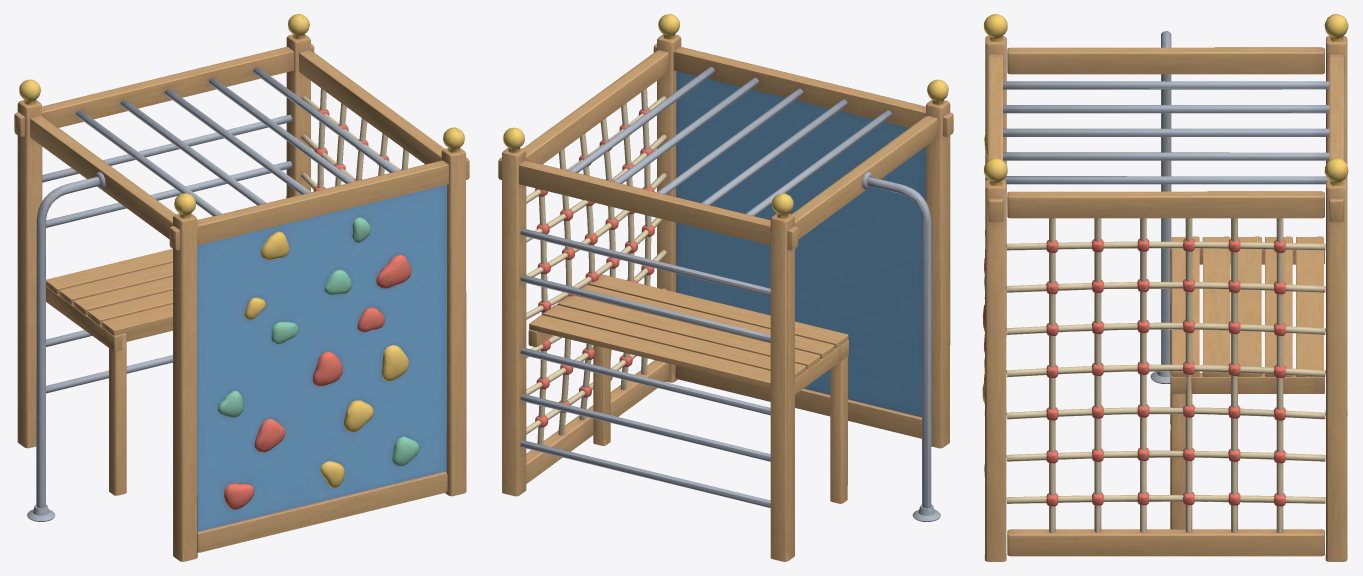
File: climbing_frame.glb
3 renders of one model, left to right at view 1: azimuth 30°, elevation 25°; view 2: azimuth 150°, elevation 25°; view 3: azimuth 270°, elevation 25°, orthographic. The views are drawn at different scales.
Parts seen in each view (by area): view 1: climbing-frame_body; view 2: climbing-frame_body; view 3: climbing-frame_body.
Boxes of the visible parts, bbox=[...] form: climbing-frame_body: bbox=[14, 14, 469, 561]; climbing-frame_body: bbox=[498, 14, 953, 561]; climbing-frame_body: bbox=[982, 14, 1348, 561].
Bounding box in the file's own units: 2.28 × 2.19 × 1.83.
Materials: 1 (1 with a texture image).
